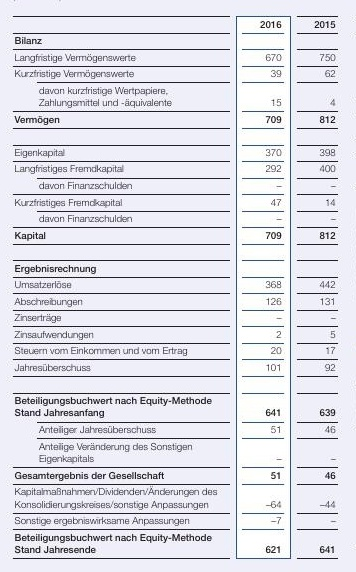table: (0, 0, 356, 572)
